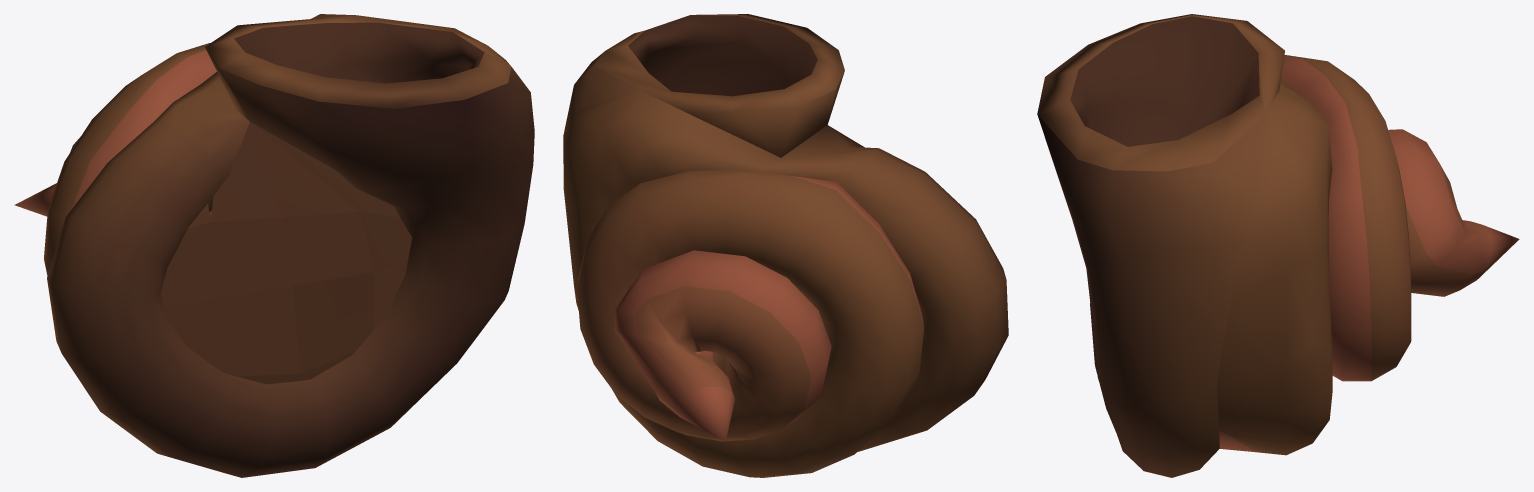
Rendered from Turdtle_Fix.2.fbx.
3 views of the same model, side by side, from view 1: azimuth 30°, elevation 25°; view 2: azimuth 150°, elevation 25°; view 3: azimuth 270°, elevation 25° (orthographic). The views are drawn at different scales.
Parts seen in each view (by area): view 1: NurbsPath; view 2: NurbsPath; view 3: NurbsPath.
Boxes of the visible parts, x1,y1,x2,y2 form: NurbsPath: [14, 14, 534, 477]; NurbsPath: [563, 14, 1008, 477]; NurbsPath: [1037, 14, 1519, 477].
Size of the model in its own units: 306 by 269 by 279.
1 material, 1 textured.
